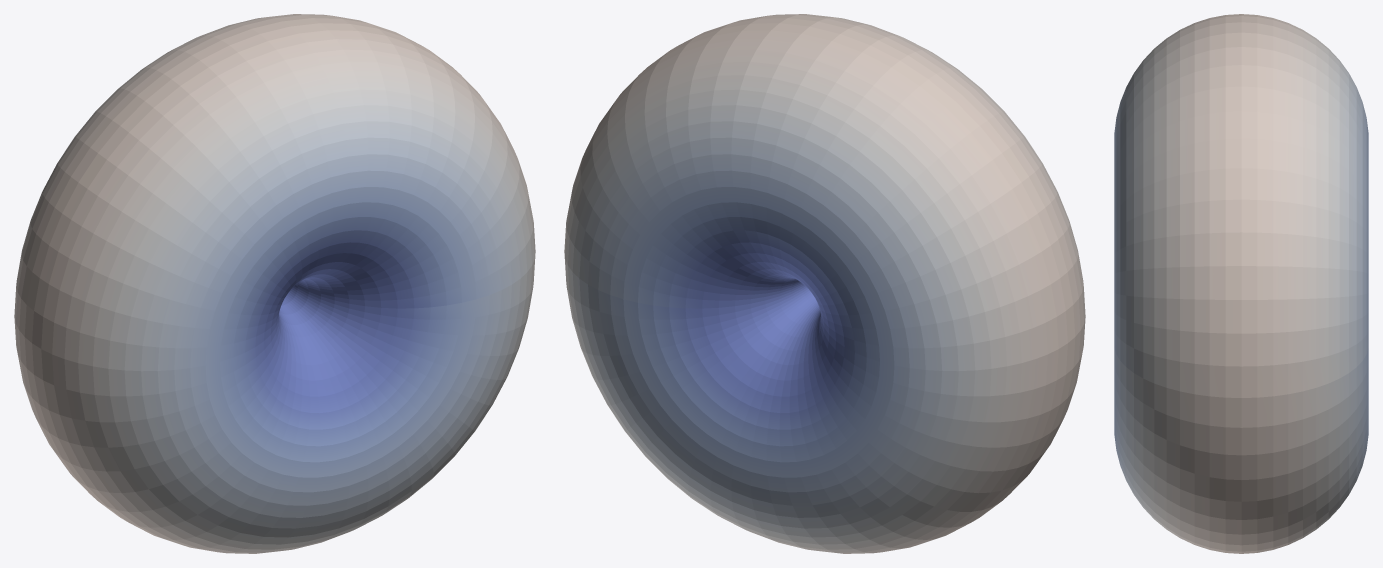
The picture shows the model from 3 angles, left to right: view 1: azimuth 30°, elevation 25°; view 2: azimuth 150°, elevation 25°; view 3: azimuth 270°, elevation 25°; orthographic projection. The views are drawn at different scales.
Visible parts, largest first — view 1: world; view 2: world; view 3: world.
Part boxes in pixels (left/top/right/bottom): world: left=14, top=14, right=535, bottom=553; world: left=564, top=14, right=1085, bottom=553; world: left=1114, top=14, right=1368, bottom=553.
Size of the model in its own units: 18.93 by 18.9 by 8.92.
